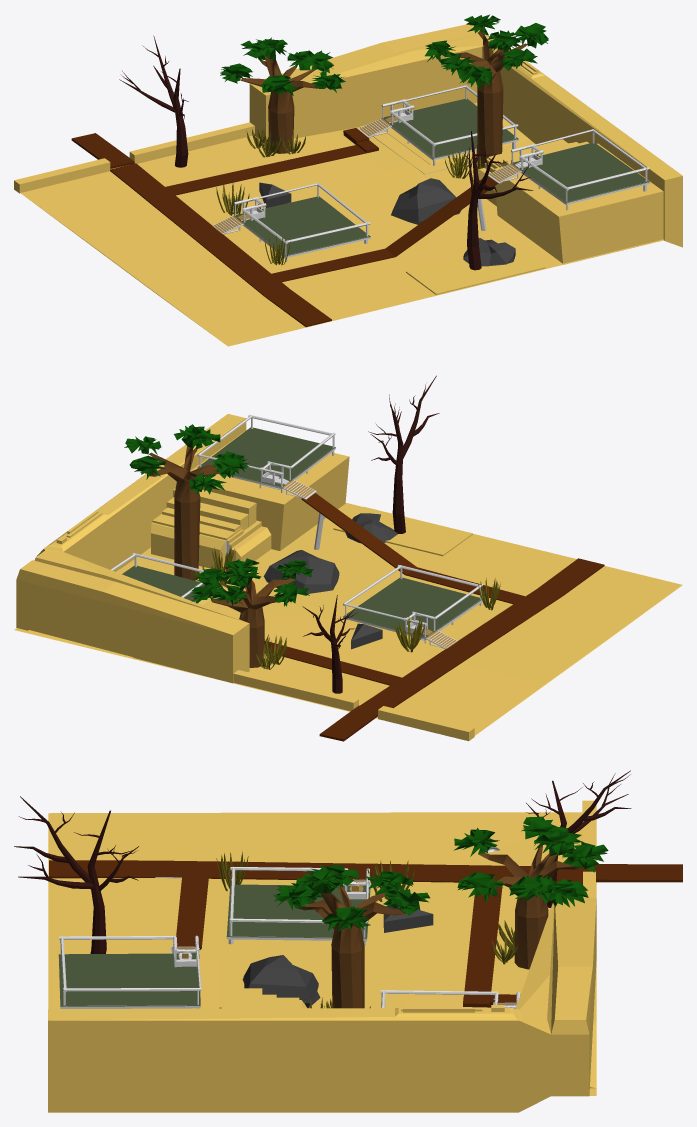
File: PrairiedogMoleratBaboon.fbx
3 views of the same model, one above another, from view 1: azimuth 30°, elevation 25°; view 2: azimuth 150°, elevation 25°; view 3: azimuth 270°, elevation 25° (orthographic). The views are drawn at different scales.
Parts seen in each view (by area): view 1: PrairiedogMoleratBaboon; view 2: PrairiedogMoleratBaboon; view 3: PrairiedogMoleratBaboon.
Boxes of the visible parts, bbox=[...] form: PrairiedogMoleratBaboon: bbox=[14, 14, 682, 346]; PrairiedogMoleratBaboon: bbox=[14, 375, 682, 741]; PrairiedogMoleratBaboon: bbox=[14, 770, 682, 1112].
Size of the model in its own units: 29395 by 11094 by 29234.
